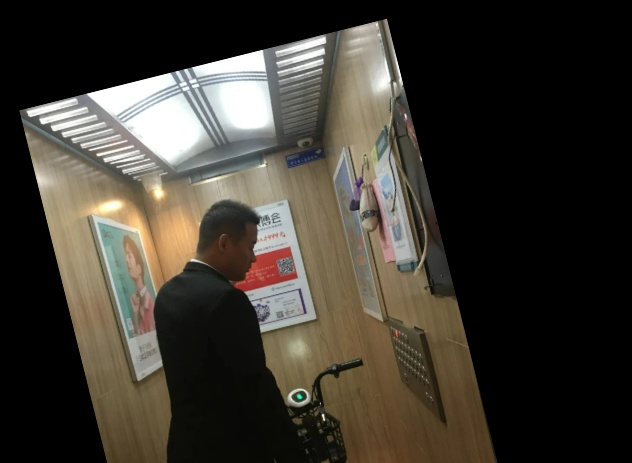ebike: (284, 354, 367, 463)
person: (156, 203, 288, 463)
